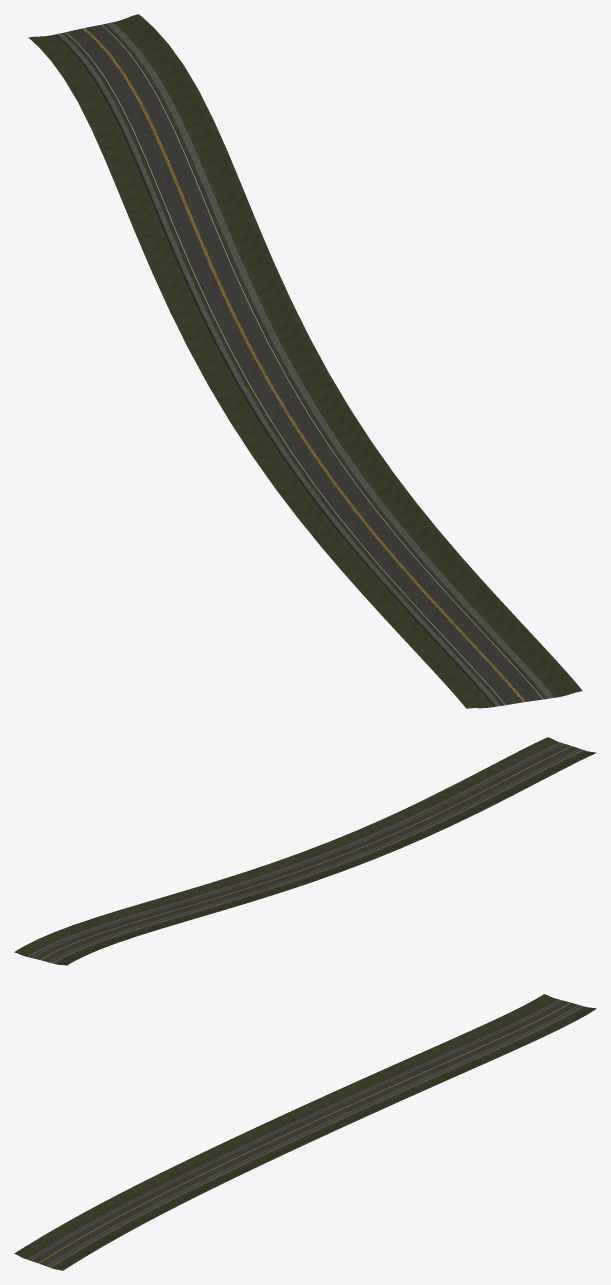
Rendered from american_road_lite.glb.
3 views of the same model, one above another, from view 1: azimuth 30°, elevation 25°; view 2: azimuth 150°, elevation 25°; view 3: azimuth 330°, elevation 25° (orthographic). The views are drawn at different scales.
Parts seen in each view (by area): view 1: Material2 (×3); view 2: Material2 (×3); view 3: Material2 (×3).
Part boxes in pixels (x1,y1,x2,y2): Material2 (×3): [28, 14, 582, 708]; Material2 (×3): [14, 737, 596, 965]; Material2 (×3): [14, 994, 596, 1270].
Bounding box in the file's own units: 3212 × 370 × 10070.
Materials: 3 (3 with a texture image).
